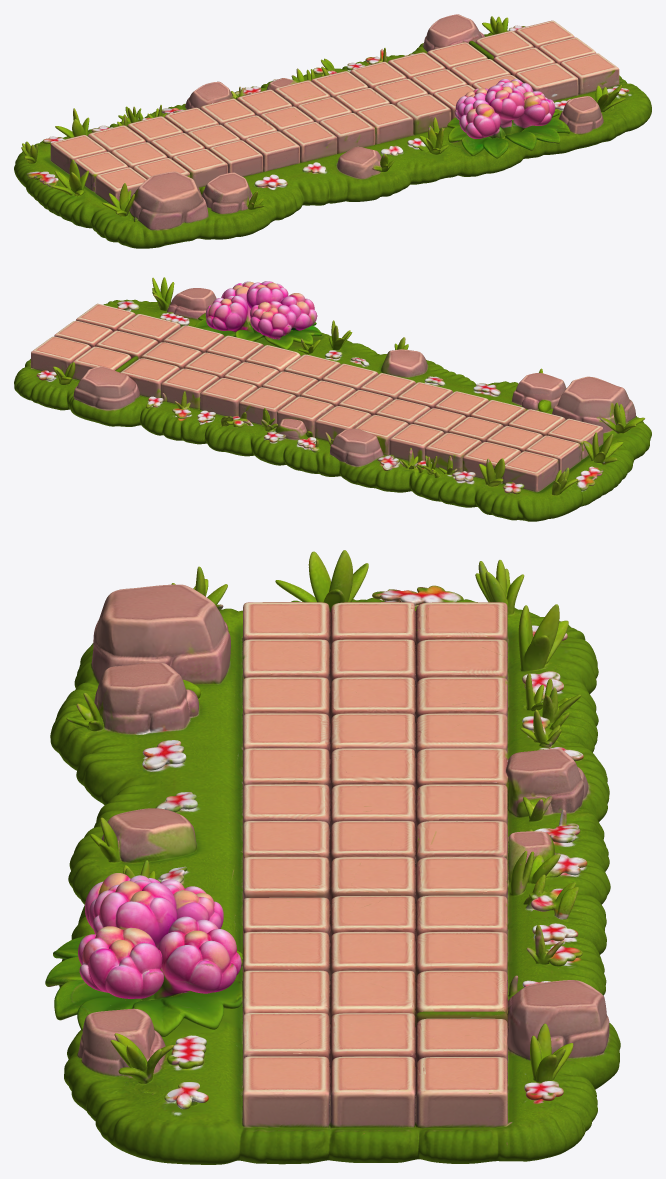
The model's file is long-path-straight-01.glb.
3 views of the same model, one above another, from view 1: azimuth 30°, elevation 25°; view 2: azimuth 150°, elevation 25°; view 3: azimuth 270°, elevation 25° (orthographic). The views are drawn at different scales.
Size of the model in its own units: 1.9 by 0.2124 by 0.8485.
1 material, 1 textured.
